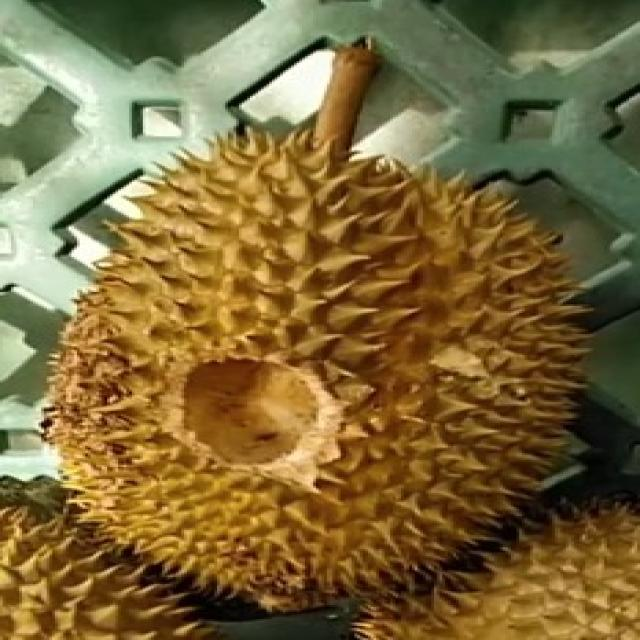defective: (40, 122, 585, 607)
